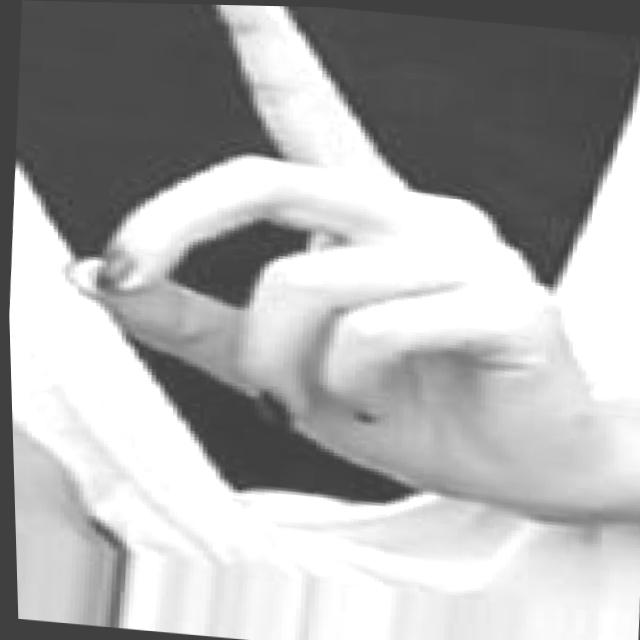I: (29, 1, 609, 520)
